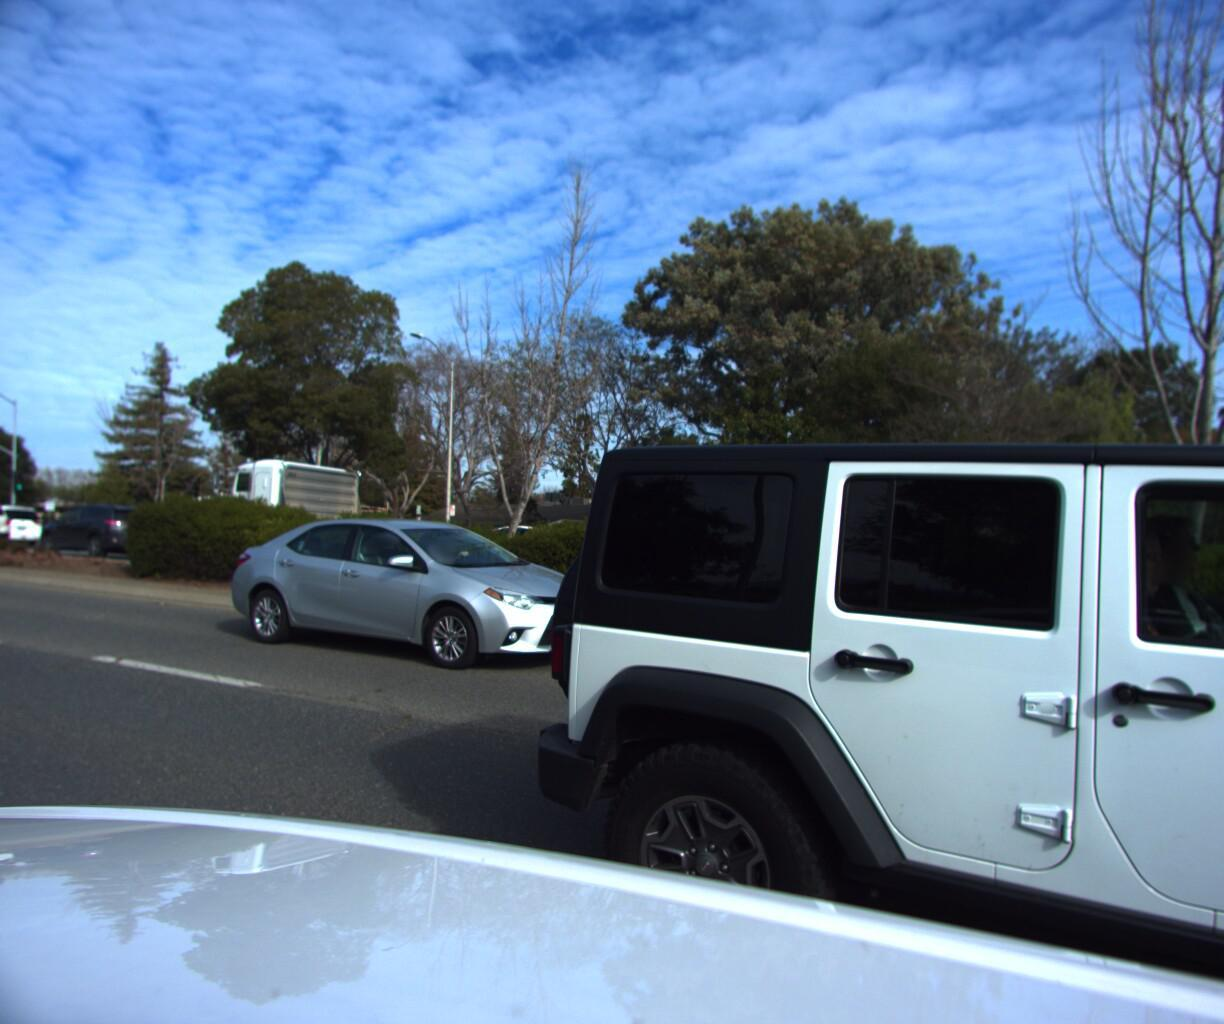car: (474, 280, 1224, 1024), (213, 513, 628, 680), (427, 524, 600, 588), (27, 504, 176, 568), (0, 506, 48, 550), (0, 502, 16, 557)
truck: (163, 405, 620, 598), (197, 498, 399, 568)
